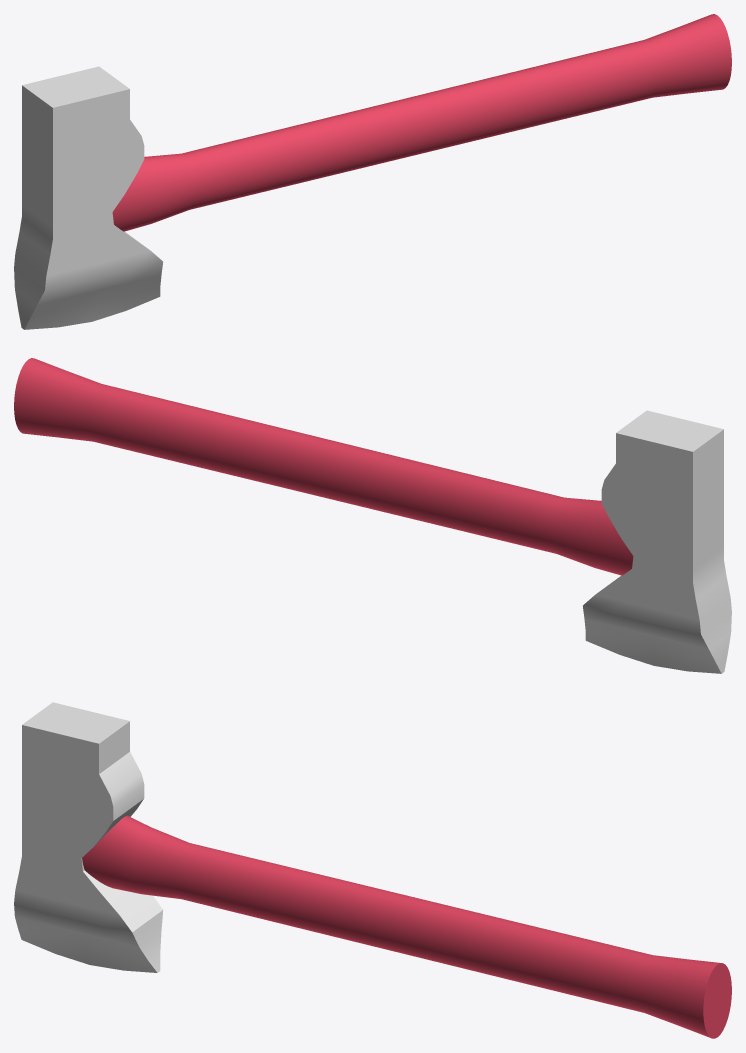
File: F_sikiera 6.fbx
The picture shows the model from 3 angles, top to bottom: view 1: azimuth 30°, elevation 25°; view 2: azimuth 150°, elevation 25°; view 3: azimuth 330°, elevation 25°; orthographic projection.
Visible parts, largest first — view 1: F_siekiera.001, F_ostrze; view 2: F_siekiera.001, F_ostrze; view 3: F_siekiera.001, F_ostrze.
Part boxes in pixels (left/top/right/bottom): F_siekiera.001: left=112, top=14, right=731, bottom=231; F_ostrze: left=14, top=66, right=162, bottom=329; F_siekiera.001: left=14, top=358, right=633, bottom=575; F_ostrze: left=583, top=410, right=731, bottom=673; F_siekiera.001: left=82, top=815, right=731, bottom=1038; F_ostrze: left=14, top=702, right=163, bottom=972.
Size of the model in its own units: 60.77 by 19.84 by 4.69.
